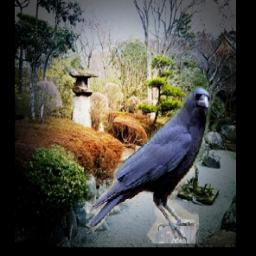Crow: (86, 87, 214, 244)
